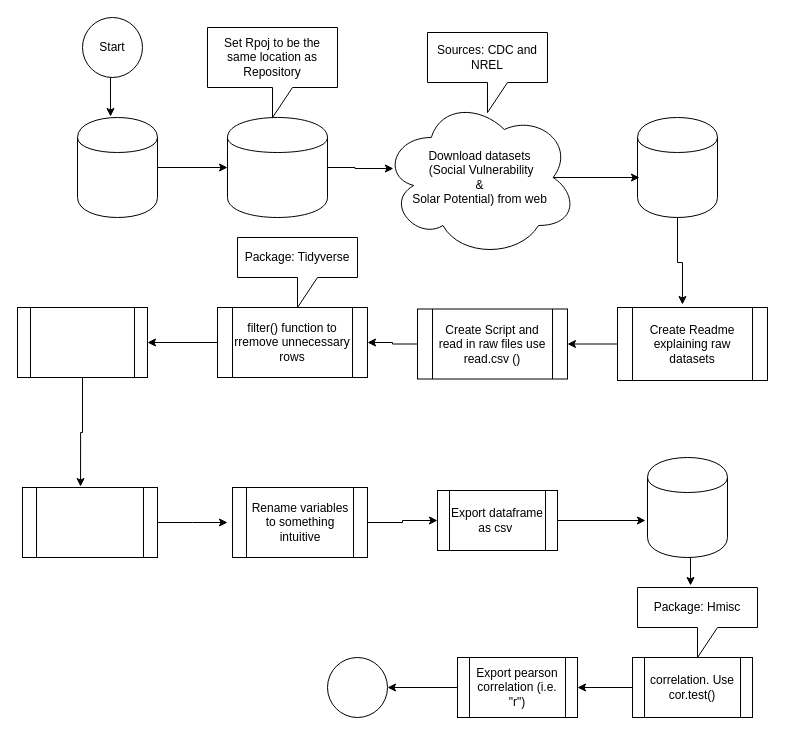
The diagram is 785 pixels wide and 735 high, and some of its shapes have lost their labels. Each missing label, with the centre of its shape:
Create Github Repository (desktop& remote): [117,167]
Create new data frame with needed variables: [82,342]
Create R project in Repository: [277,167]
End: [357,687]
Github Repository: [687,507]
Merge new data frames using variable "cnty": [90,522]
Save in Github Repository: [677,167]
